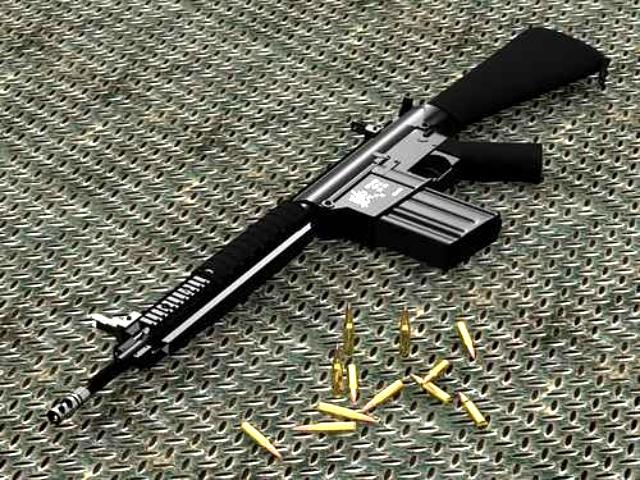rifle: (14, 12, 622, 448)
